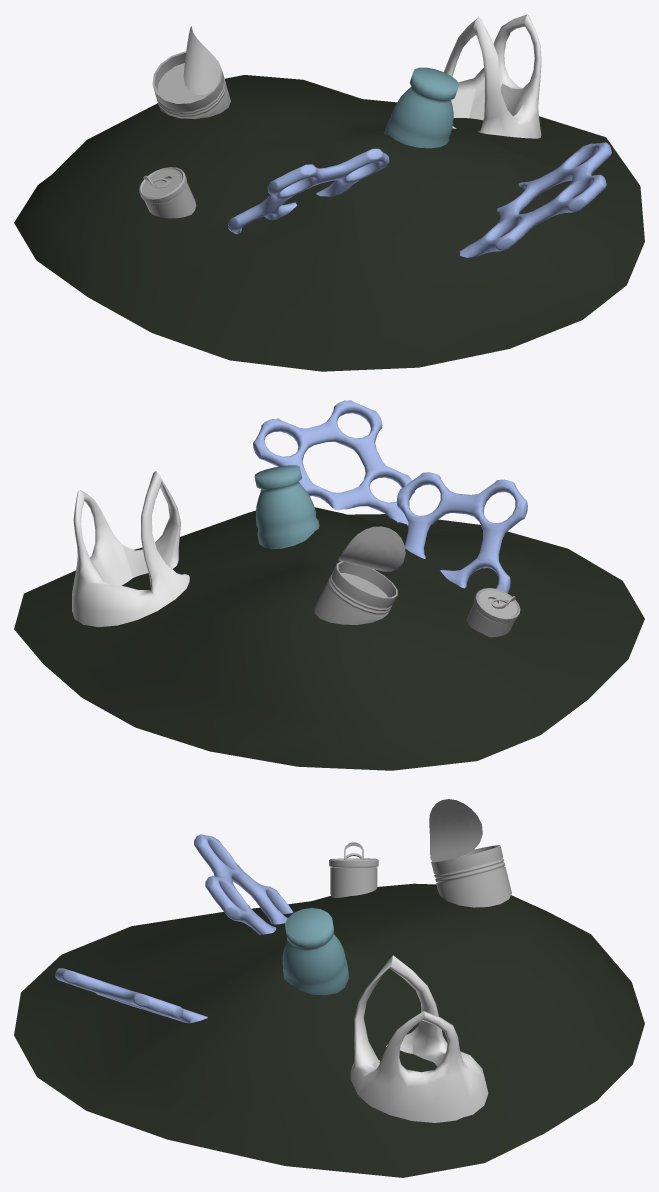
The model's file is trash_1 (1).fbx.
3 renders of one model, top to bottom at view 1: azimuth 30°, elevation 25°; view 2: azimuth 150°, elevation 25°; view 3: azimuth 270°, elevation 25°, orthographic. The views are drawn at different scales.
Visible parts, largest first — view 1: polySurface44; view 2: polySurface44; view 3: polySurface44.
Boxes of the visible parts, <box> form: polySurface44: <box>14,14,644,371</box>; polySurface44: <box>14,400,644,770</box>; polySurface44: <box>14,799,644,1177</box>.
Size of the model in its own units: 17.91 by 5.68 by 17.51.
